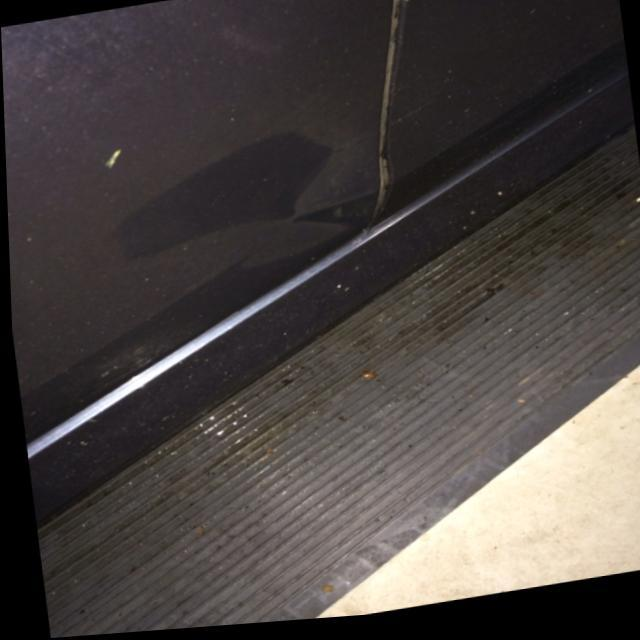Dent: (185, 153, 356, 271)
